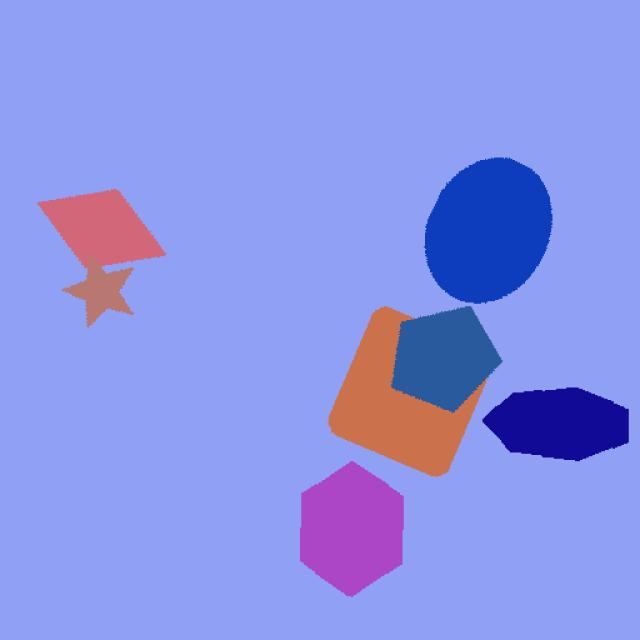Heptagon: (469, 367, 640, 486)
Hexagon: (263, 448, 436, 602)
Kite: (18, 184, 179, 280)
Oval: (400, 147, 569, 321)
Pentagon: (376, 290, 504, 421)
Star: (46, 249, 157, 339)
square: (326, 300, 482, 471)
